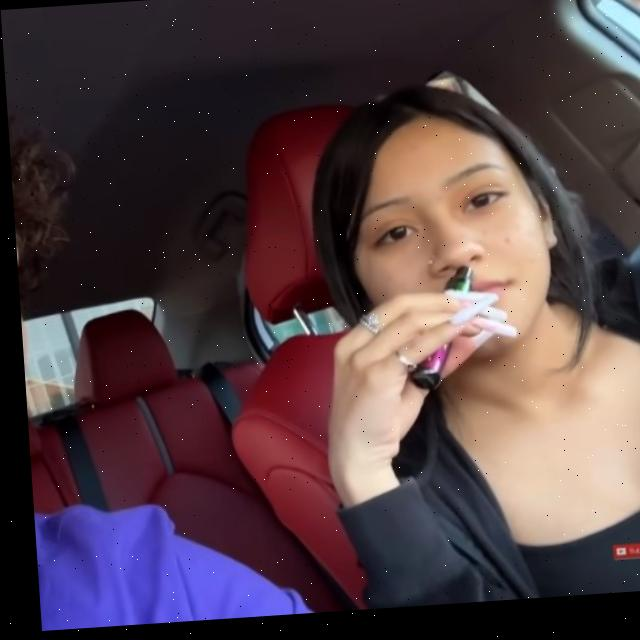vape: (397, 270, 474, 396)
